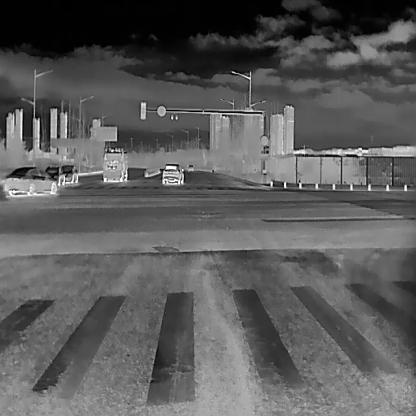car: (1, 165, 57, 197), (101, 146, 128, 181), (161, 163, 183, 185), (45, 165, 65, 186), (60, 164, 77, 183), (186, 163, 194, 171)
